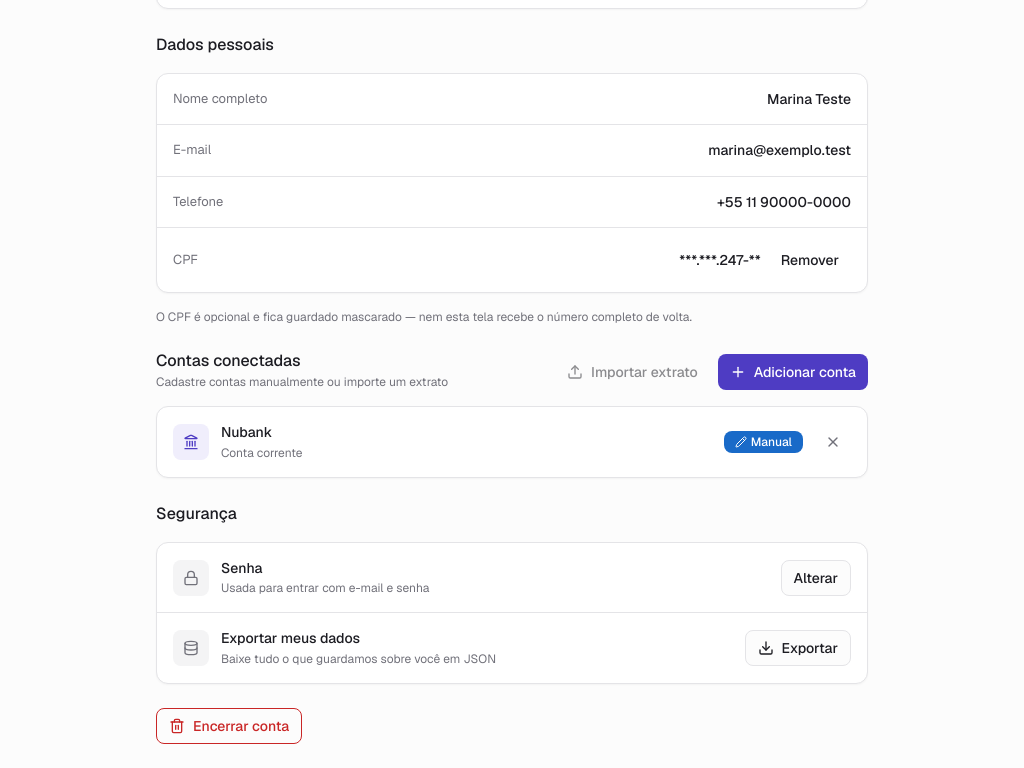
it: AccountScreen › requires typing ENCERRAR before the destructive action is enabled
(page scrolled)
Click the button "Encerrar conta" at {"x": 229, "y": 726}, box 156,708 -> 302,744
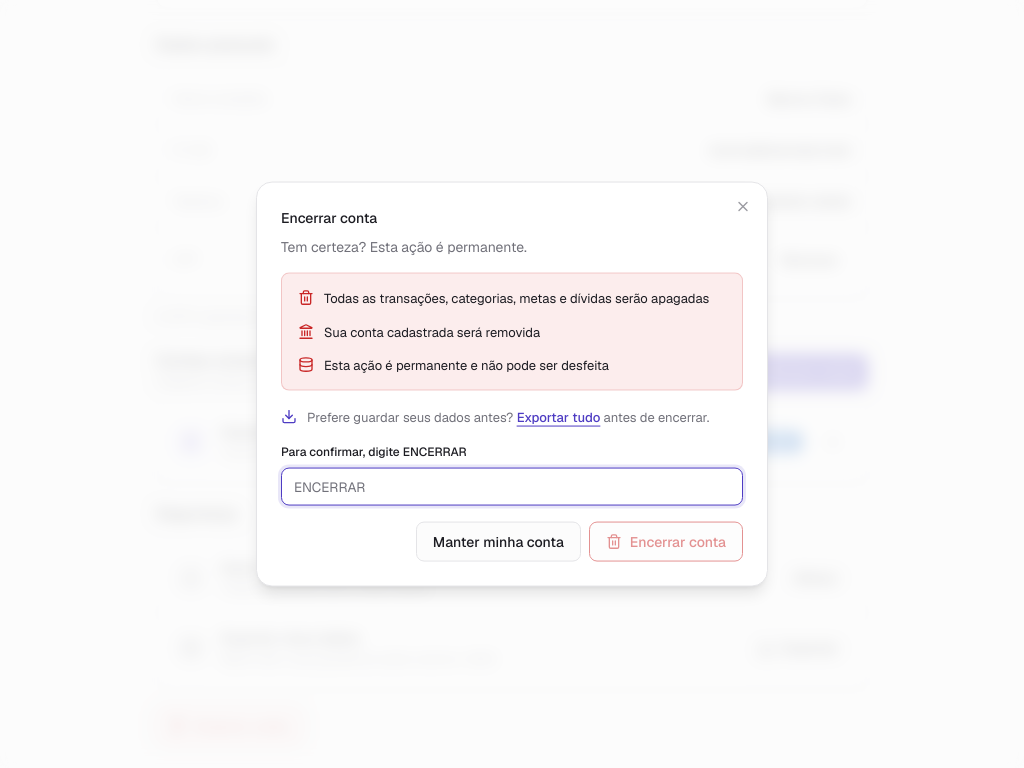
Expected: the button "Encerrar conta" is disabled, 589,521 -> 743,561
Type "encerrar" into the field labelled "Para confirmar, digite ENCERRAR" at {"x": 512, "y": 486}, box 281,467 -> 743,505
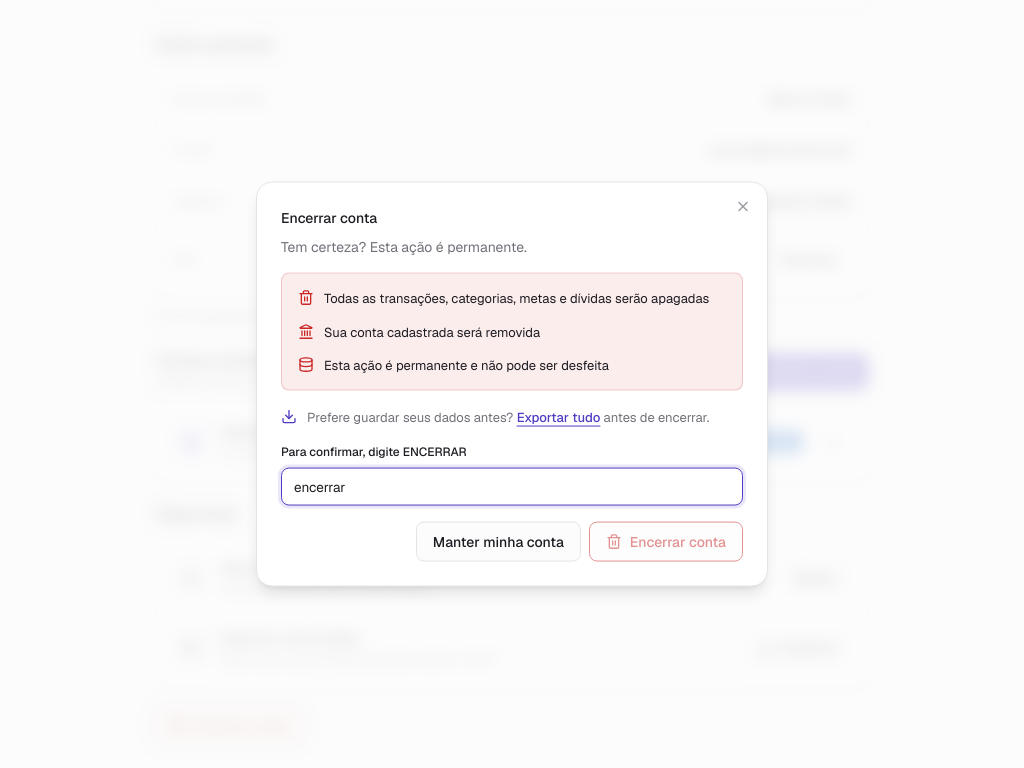
Expected: the button "Encerrar conta" is disabled, 589,521 -> 743,561
Replace the text in the field labelled "Para confirmar, digite ENCERRAR" with "ENCERRAR" at {"x": 512, "y": 486}, box 281,467 -> 743,505
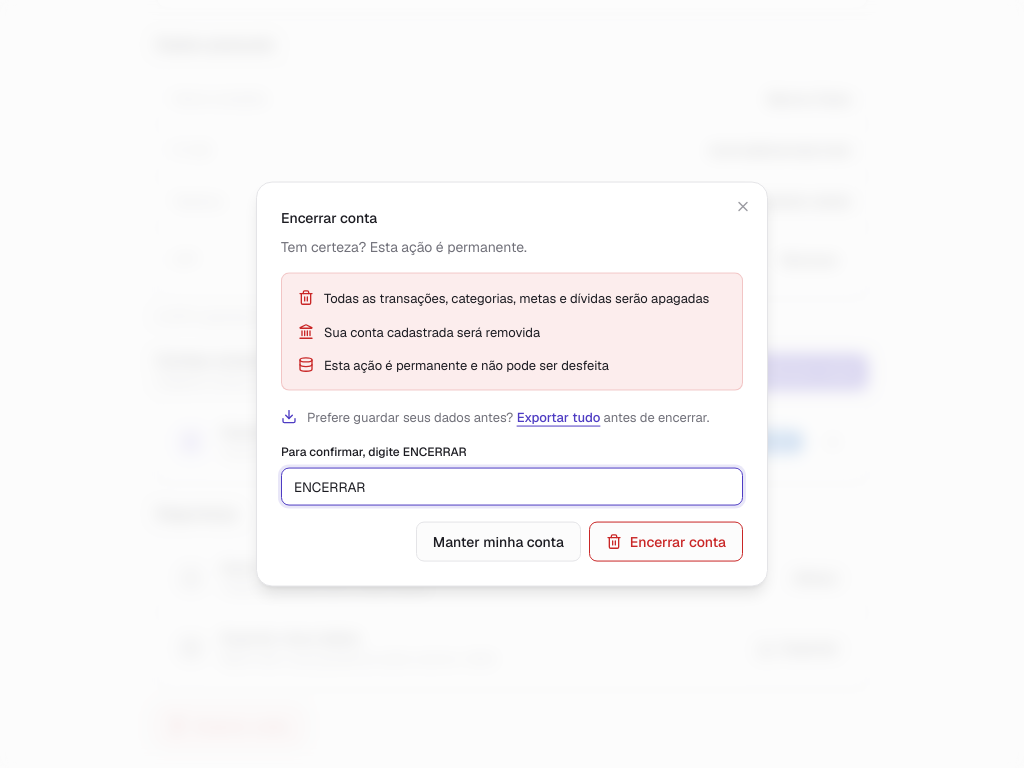
Expected: the button "Encerrar conta" is enabled, 589,521 -> 743,561
